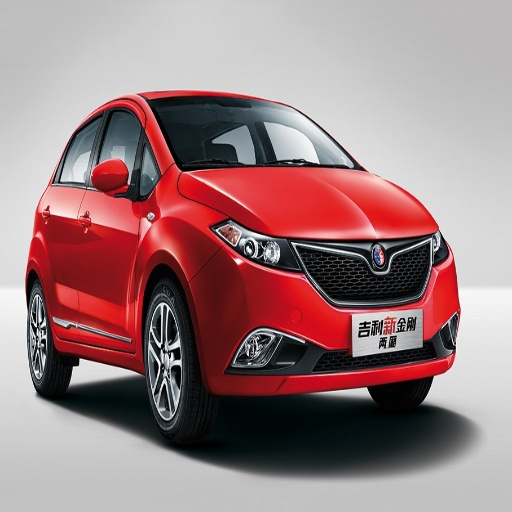front_bumper: (190, 232, 460, 391)
front_right_door: (79, 103, 158, 342)
front_right_light: (211, 217, 302, 272)
